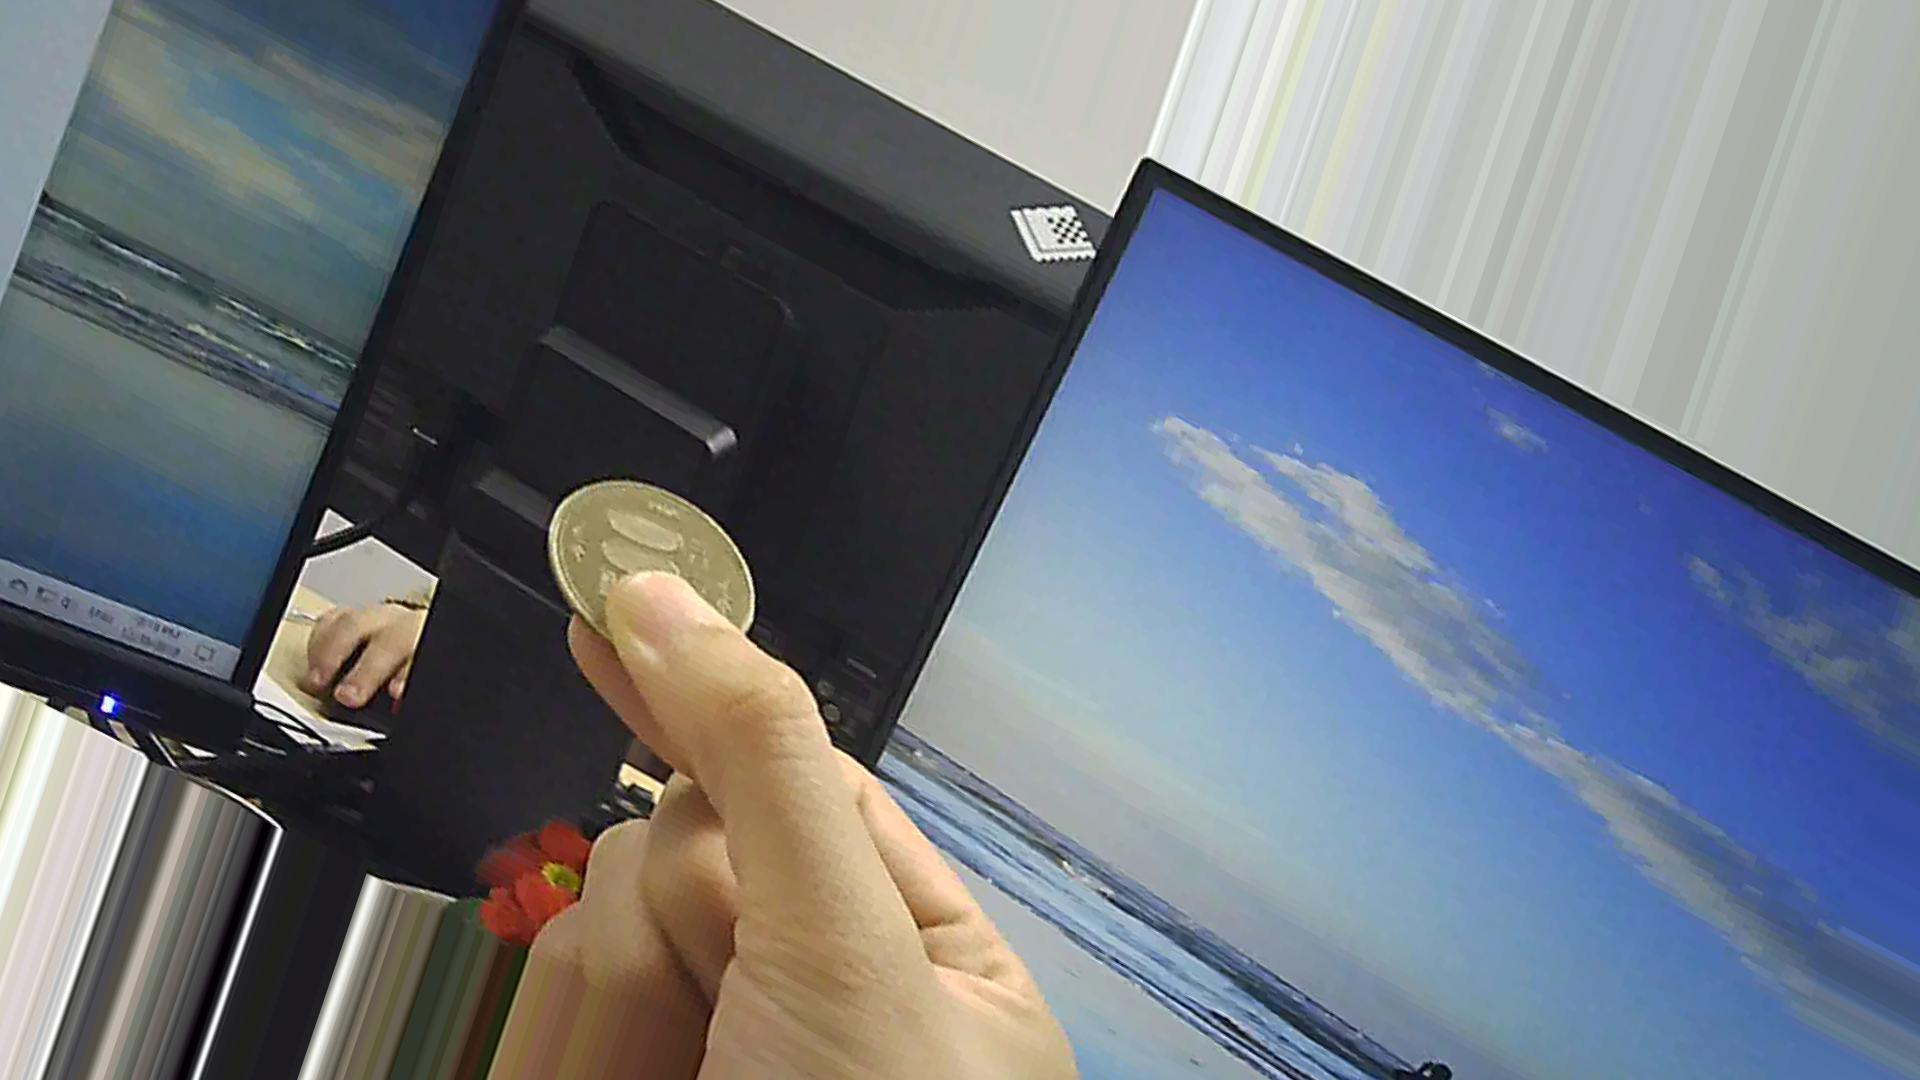500 Yen: (505, 452, 778, 640)
